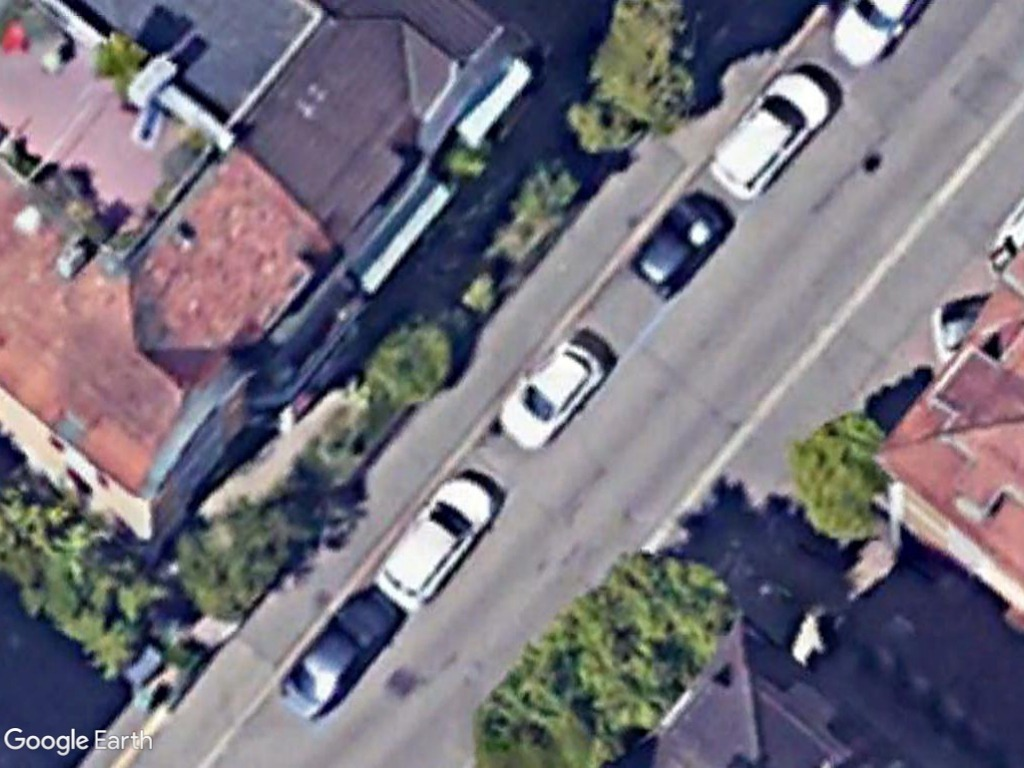car: (271, 581, 404, 725), (371, 473, 497, 615), (704, 69, 835, 202), (490, 333, 604, 459), (621, 187, 730, 305)
